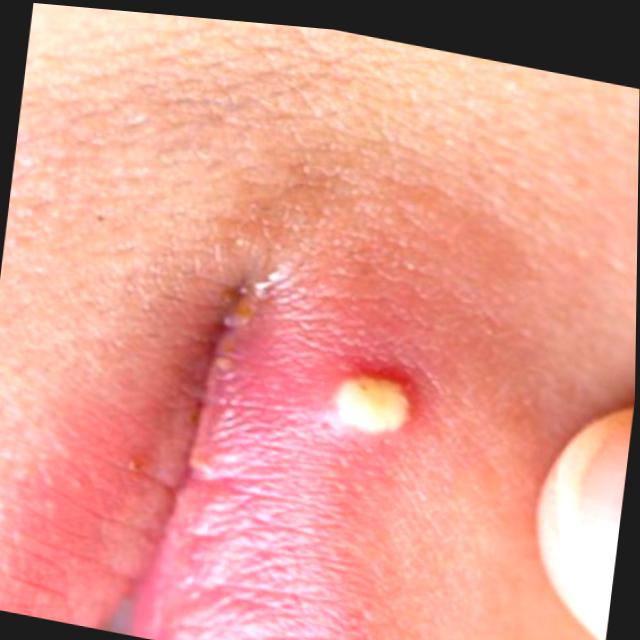pustule: (306, 332, 450, 478)
